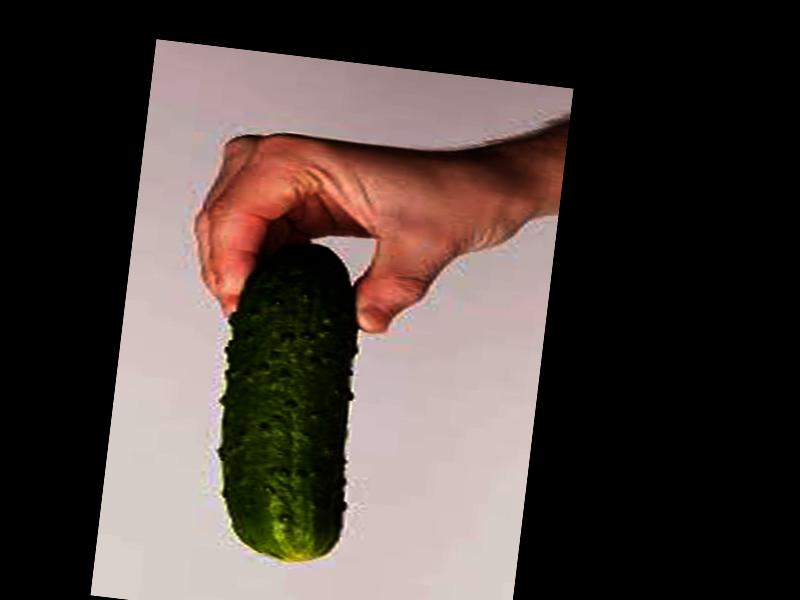Cucumber: (205, 235, 364, 563)
